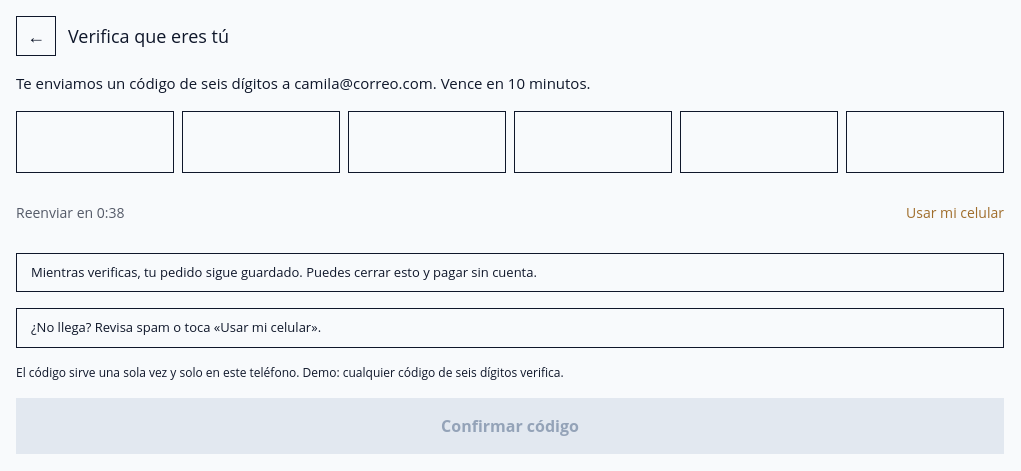
spreads a pasted code over the six boxes
Step 1. Type "987654" into the field named "Dígito 1 de 6" → (95, 142), box [16,110,174,172]
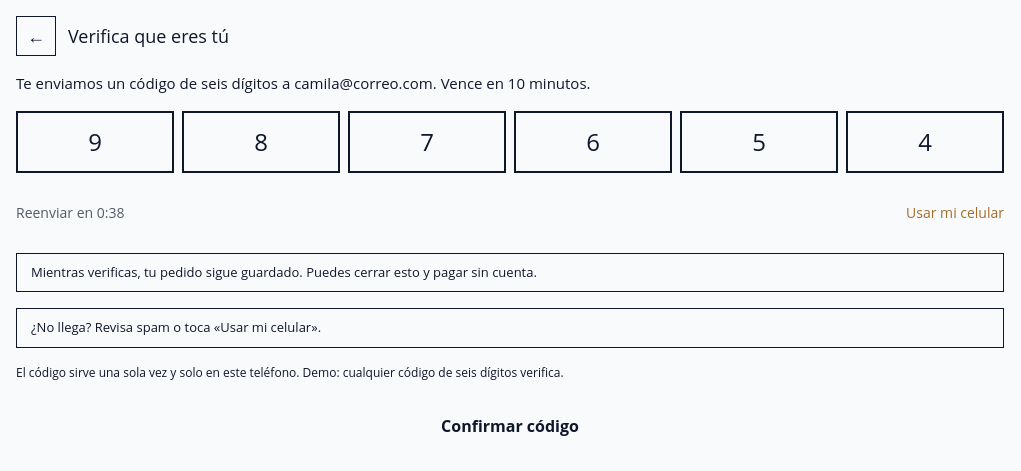
expect the button "Confirmar código" is enabled: met, box [16,398,1004,454]
